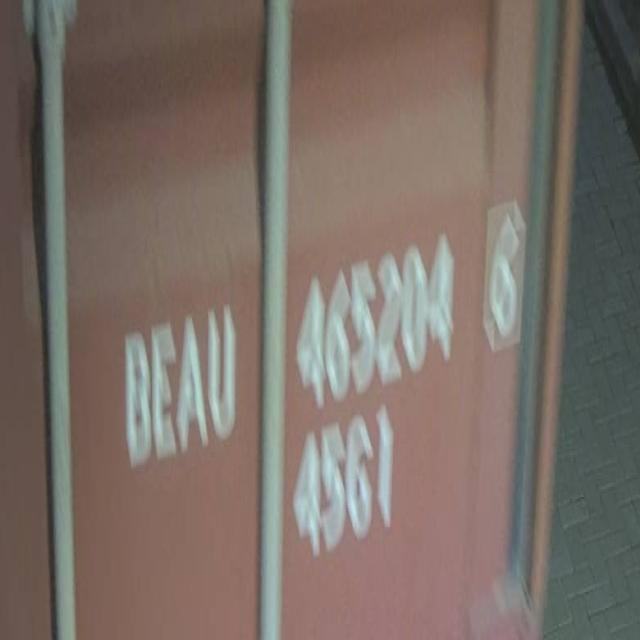dv: (478, 192, 528, 360)
owner: (119, 293, 244, 476)
serial: (292, 222, 460, 406)
size: (288, 404, 407, 566)
